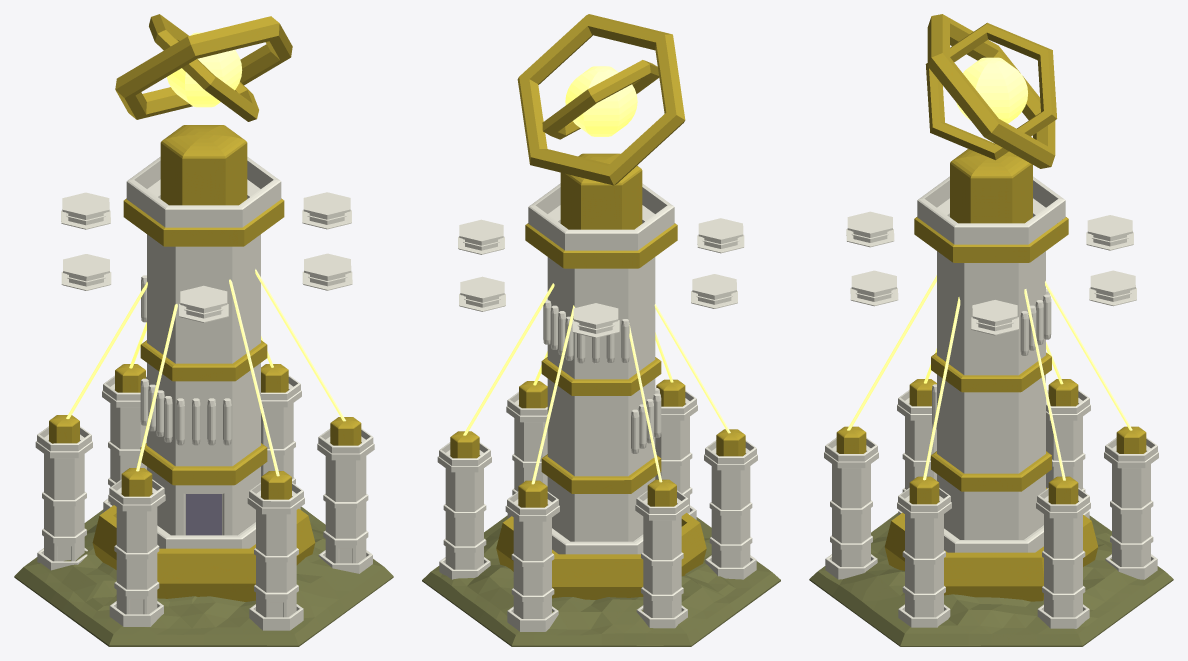
File: hyperstructure_final.glb
The picture shows the model from 3 angles, left to right: view 1: azimuth 30°, elevation 25°; view 2: azimuth 150°, elevation 25°; view 3: azimuth 270°, elevation 25°; orthographic projection. The views are drawn at different scales.
Parts seen in each view (by area): view 1: land, building; view 2: land, building; view 3: land, building.
Part boxes in pixels (x1,y1,x2,y2): land: (14,157,393,646); building: (49,14,361,601); land: (422,183,780,646); building: (450,14,745,599); land: (809,176,1173,646); building: (836,14,1146,601).
Bounding box in the file's own units: 1.79 × 3.31 × 2.
3 materials, 3 textured.
